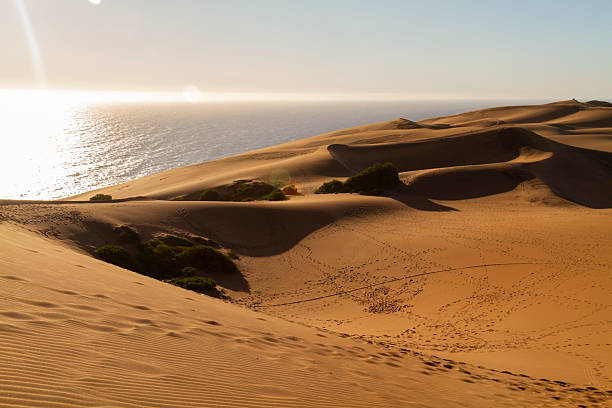human_footprint: (62, 310, 119, 339), (463, 290, 518, 319), (178, 319, 237, 344), (424, 318, 468, 346), (3, 301, 38, 336), (393, 347, 430, 372), (122, 310, 159, 331), (488, 370, 519, 392), (448, 356, 476, 380), (340, 349, 380, 365), (301, 338, 328, 361), (251, 337, 292, 350), (364, 286, 389, 306), (521, 372, 546, 390)
